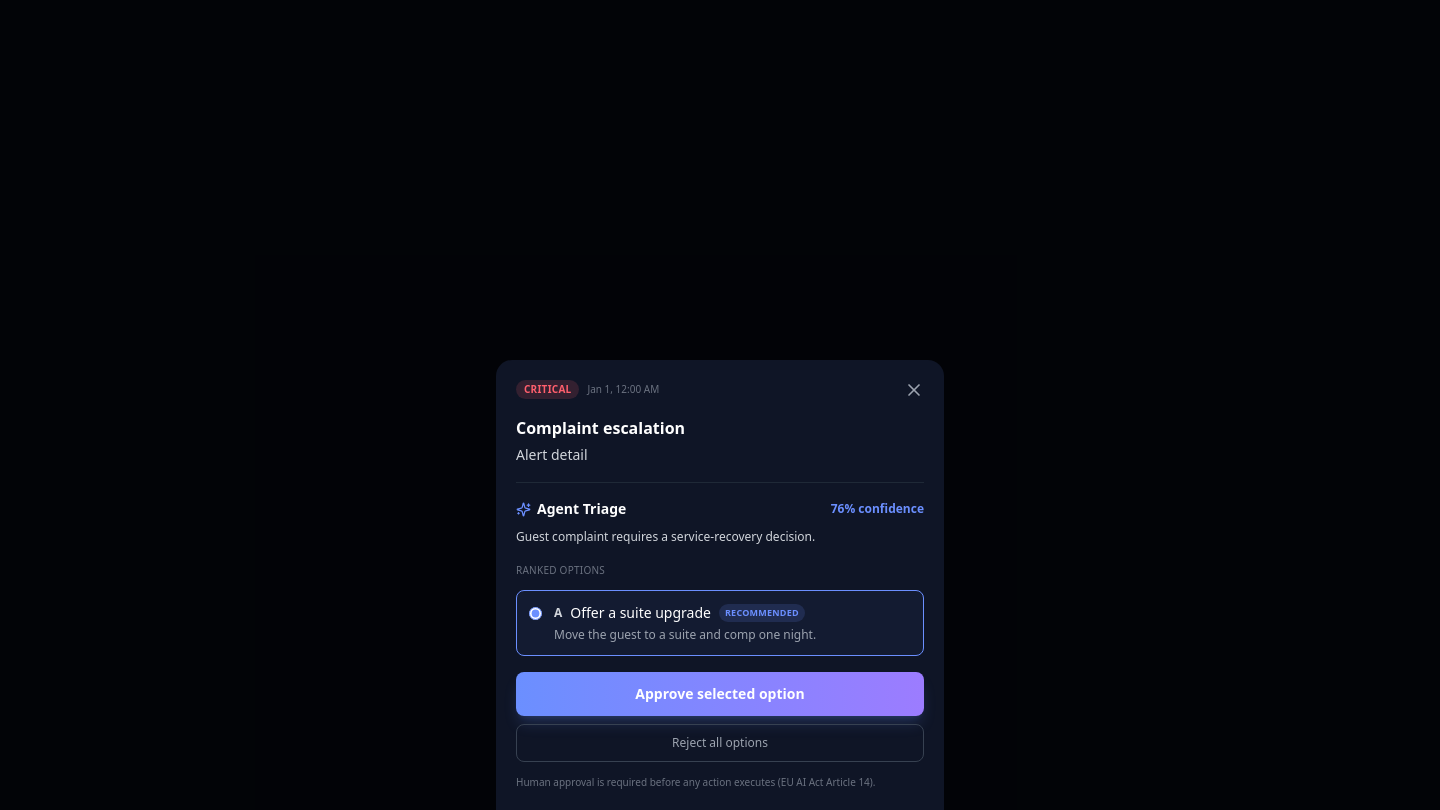
Test case: TriageModal approval outcomes (Requirement 15.8) › shows the error indicator and retains the unapproved state on a failed approval
Expected: the text "Offer a suite upgrade" is shown, [570, 603, 711, 623]
Click the button "Approve selected option". click: click(720, 694)
box: [516, 672, 924, 716]
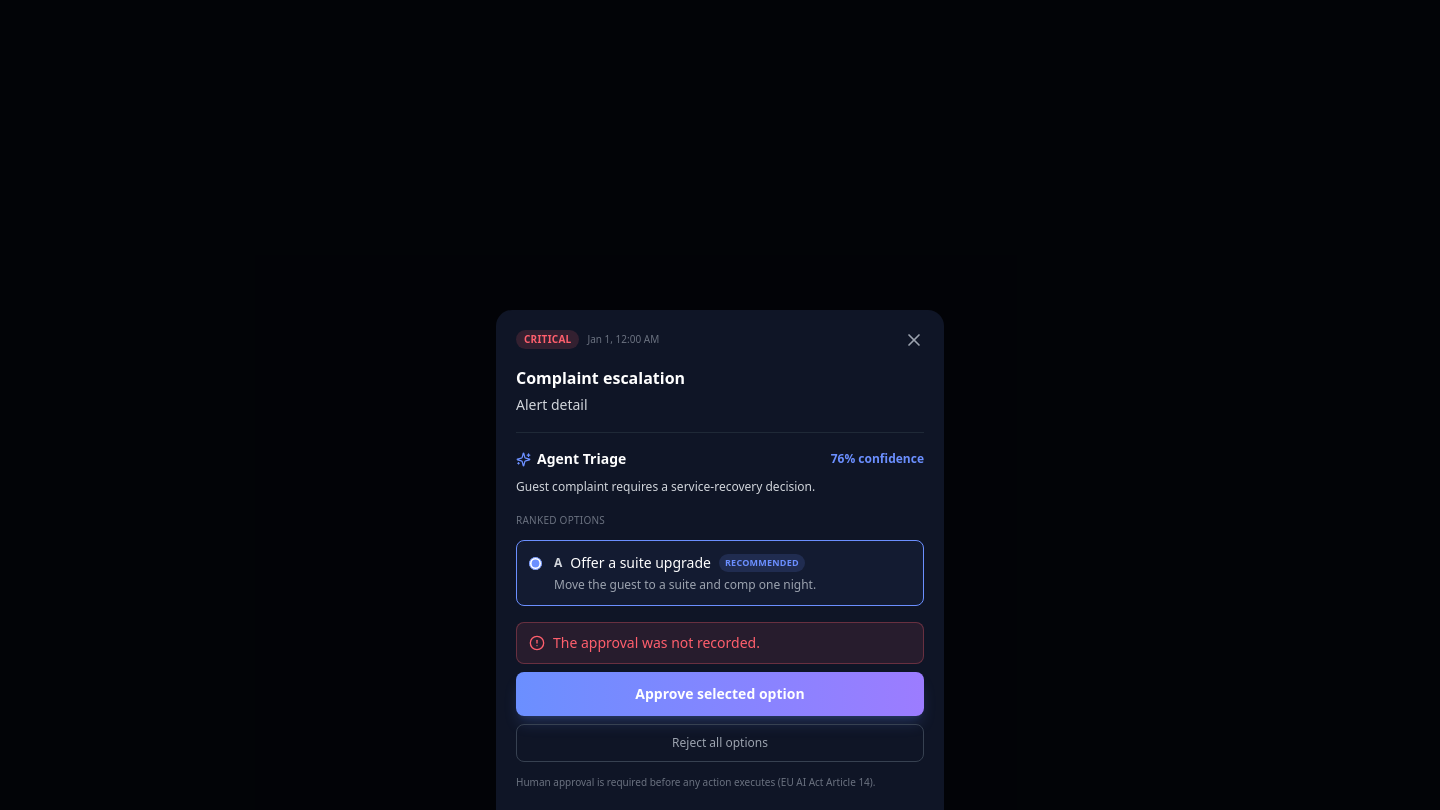
Expected: the message reads "The approval was not recorded.", [553, 633, 760, 652]
